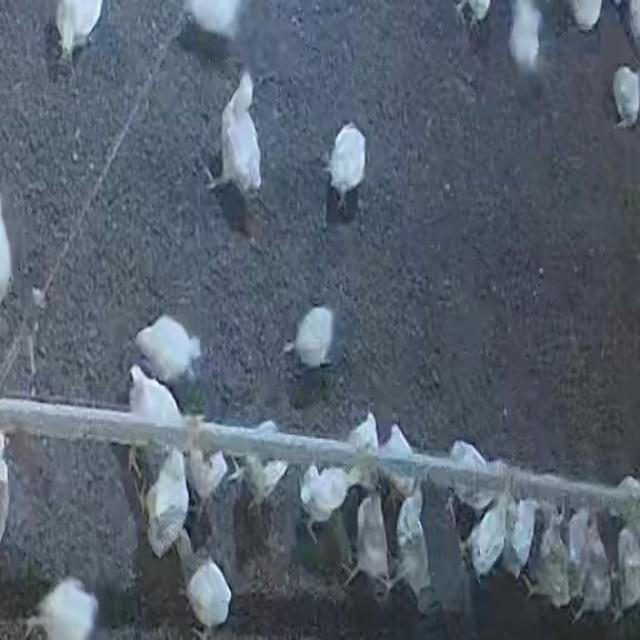chicken: (198, 73, 263, 196), (236, 415, 289, 515), (138, 449, 186, 558), (134, 312, 202, 387), (393, 493, 431, 605), (527, 511, 568, 610), (33, 578, 95, 640), (354, 492, 391, 590), (575, 513, 610, 615), (299, 462, 350, 531), (185, 557, 233, 629), (54, 1, 108, 64), (469, 492, 508, 579), (377, 423, 421, 500), (502, 498, 544, 578), (286, 303, 336, 370), (449, 439, 493, 512), (327, 126, 367, 202), (128, 365, 177, 426), (185, 445, 228, 508), (508, 1, 544, 76), (613, 518, 640, 608), (611, 63, 640, 129), (348, 411, 380, 460)
